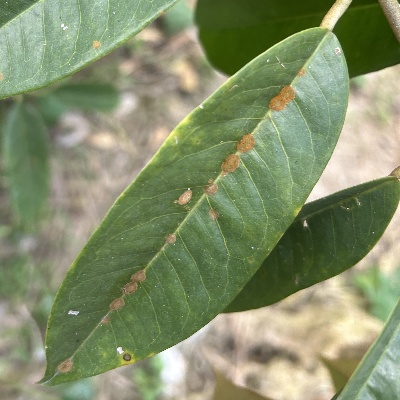Leaf_Algal: (35, 10, 400, 392)
